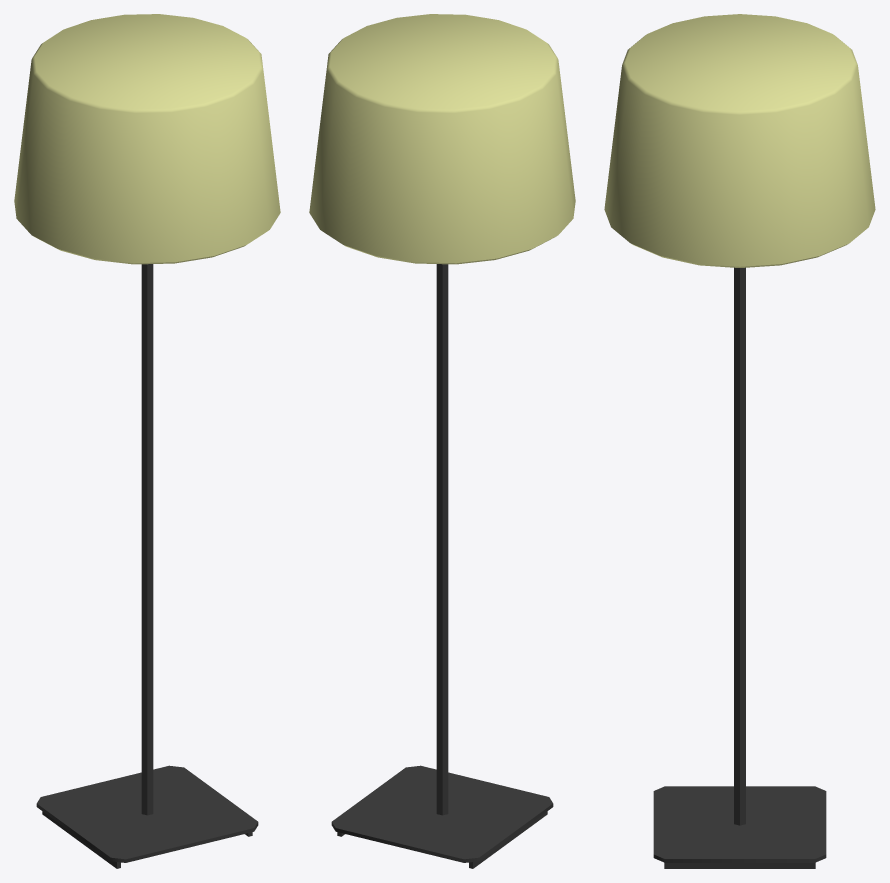
File: KivstaShade.FBX
The picture shows the model from 3 angles, left to right: view 1: azimuth 30°, elevation 25°; view 2: azimuth 150°, elevation 25°; view 3: azimuth 270°, elevation 25°; orthographic projection.
Visible parts, largest first — view 1: KivstaShade; view 2: KivstaShade; view 3: KivstaShade.
Part boxes in pixels (x1,y1,x2,y2): KivstaShade: (14,14,280,868); KivstaShade: (309,14,575,868); KivstaShade: (604,14,875,868).
Size of the model in its own units: 40 by 40 by 126.
